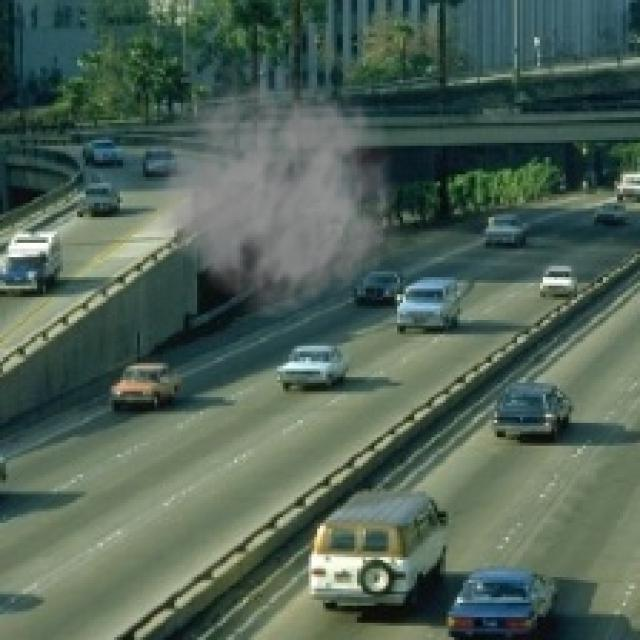Smoke: (134, 48, 406, 320)
